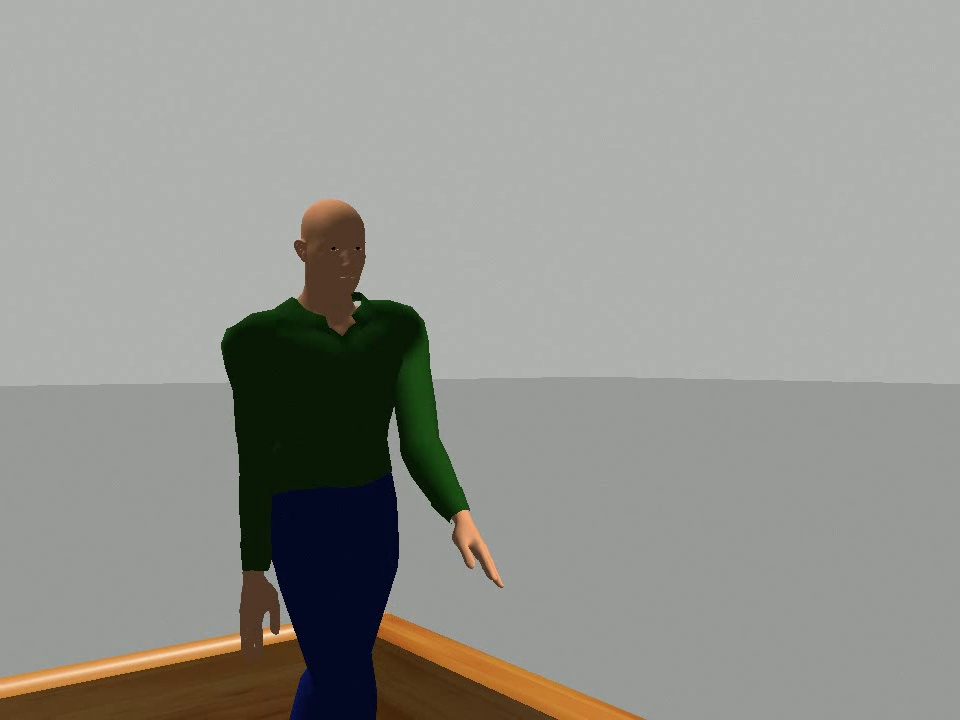person: (215, 197, 511, 720)
